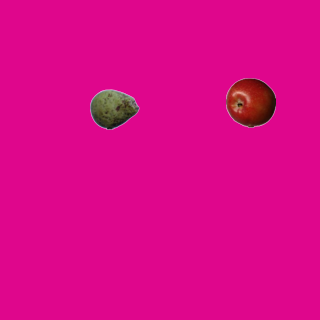Apple Braeburn: (225, 77, 275, 127)
Pear Stone: (89, 84, 139, 134)
